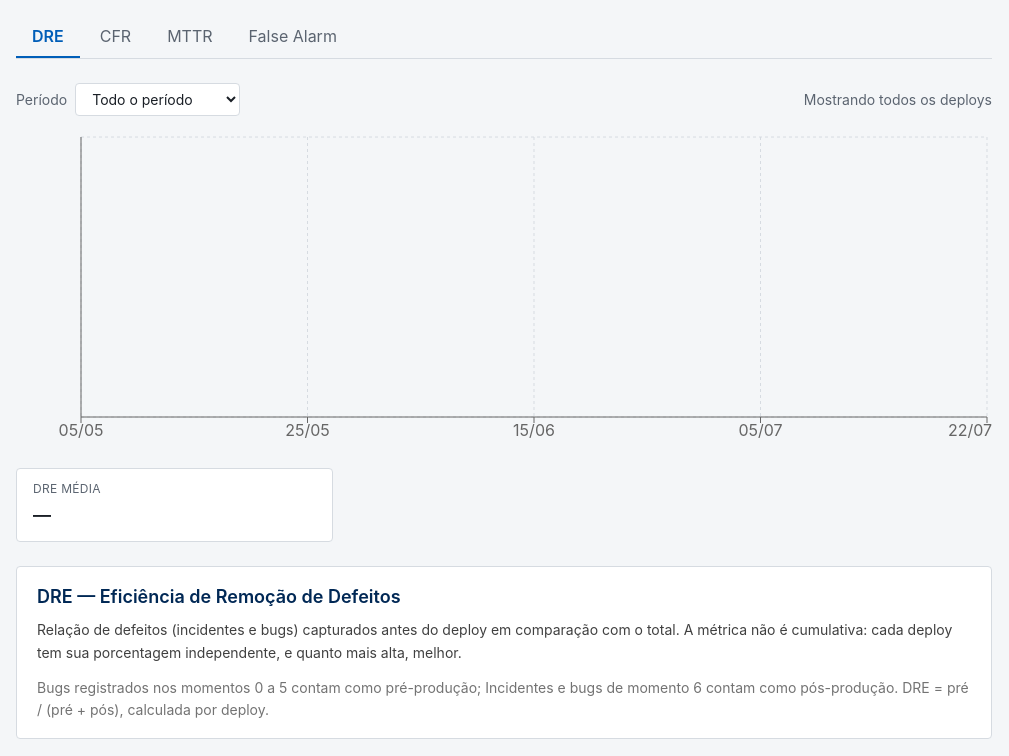
Scenario: Dashboard metric switching › switching to False Alarm changes the chart label and the description text
This screenshot has width=1009, height=756.
What coordinates should you click on to do the following:
click the tab "False Alarm"
I would click on:
 (293, 37)
Its box is [232,16,353,58].
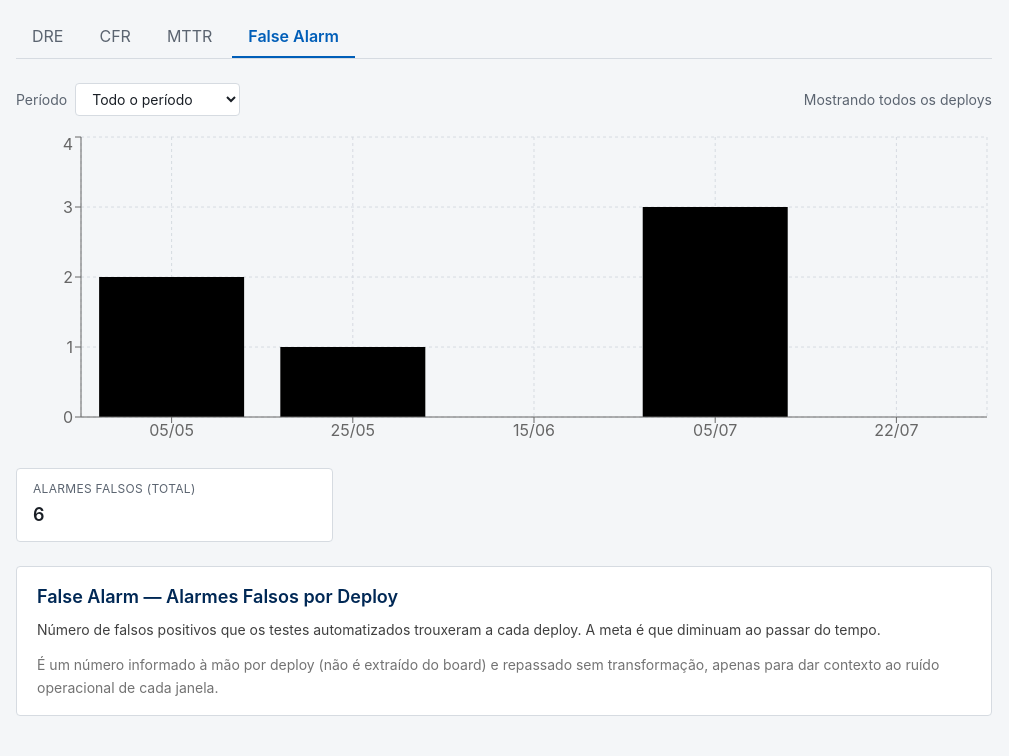
Check: the picture named "False Alarm" is shown, box [16,132,992,452]
Check: the element named "Descrição da métrica" shows "Alarm", box [37,586,398,607]
